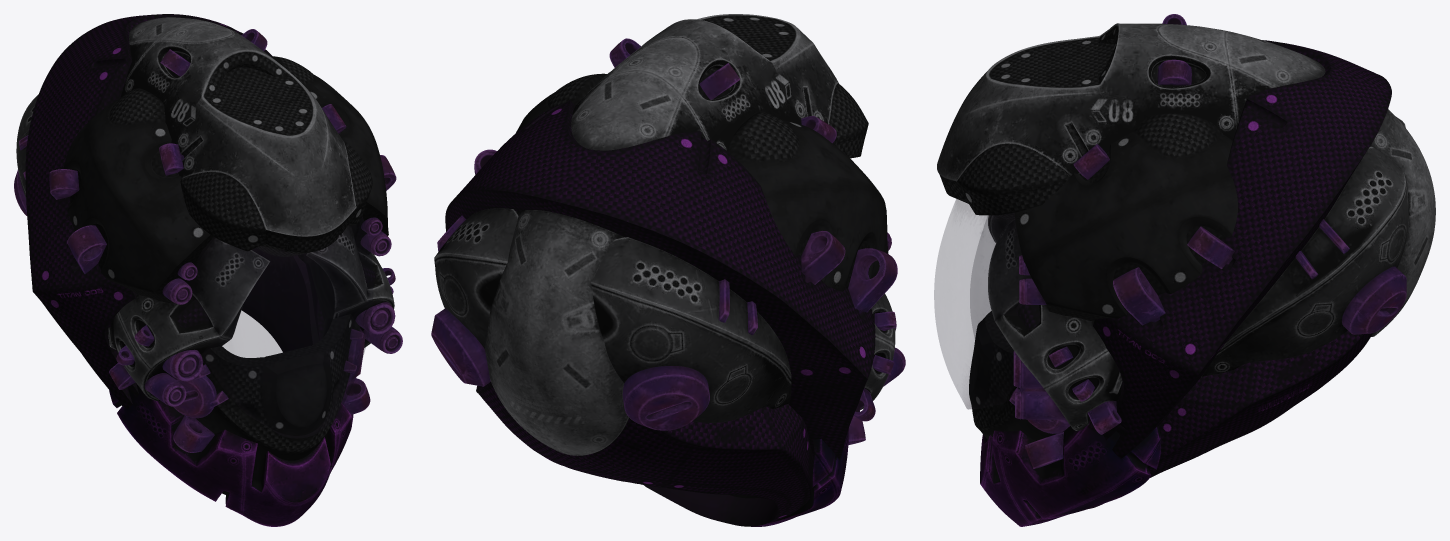
The model's file is robot-head.glb.
3 views of the same model, side by side, from view 1: azimuth 30°, elevation 25°; view 2: azimuth 150°, elevation 25°; view 3: azimuth 270°, elevation 25° (orthographic). The views are drawn at different scales.
Parts seen in each view (by area): view 1: Helmet1_Low, Helmet2_Low, Helmet3_Low, Helmet6_Low, Helmet5_Low_H5_0, Helmet4_Low, Helmet7_Low_H7_0; view 2: Helmet1_Low, Helmet3_Low, Helmet4_Low, Helmet5_Low_H5_0, Helmet7_Low_H7_0, Helmet2_Low; view 3: Helmet1_Low, Helmet3_Low, Helmet2_Low, Helmet4_Low, Helmet5_Low_H5_0, Helmet7_Low_H7_0, Helmet6_Low.
Part boxes in pixels (left/top/right/bottom): Helmet1_Low: left=120, top=17, right=372, bottom=256; Helmet2_Low: left=63, top=56, right=388, bottom=460; Helmet3_Low: left=25, top=14, right=324, bottom=408; Helmet6_Low: left=186, top=216, right=373, bottom=438; Helmet5_Low_H5_0: left=82, top=248, right=356, bottom=526; Helmet4_Low: left=16, top=94, right=394, bottom=400; Helmet7_Low_H7_0: left=14, top=29, right=402, bottom=452; Helmet1_Low: left=485, top=14, right=868, bottom=455; Helmet3_Low: left=445, top=100, right=875, bottom=459; Helmet4_Low: left=434, top=208, right=895, bottom=422; Helmet5_Low_H5_0: left=476, top=381, right=848, bottom=526; Helmet7_Low_H7_0: left=431, top=38, right=905, bottom=445; Helmet2_Low: left=516, top=73, right=888, bottom=291; Helmet1_Low: left=937, top=23, right=1435, bottom=336; Helmet3_Low: left=1093, top=40, right=1391, bottom=458; Helmet2_Low: left=969, top=113, right=1237, bottom=440; Helmet4_Low: left=988, top=117, right=1409, bottom=430; Helmet5_Low_H5_0: left=980, top=330, right=1372, bottom=526; Helmet7_Low_H7_0: left=1009, top=14, right=1406, bottom=468; Helmet6_Low: left=934, top=199, right=1030, bottom=409.
Size of the model in its own units: 0.3269 by 0.4069 by 0.3758.
Materials: 7 (7 with a texture image).
